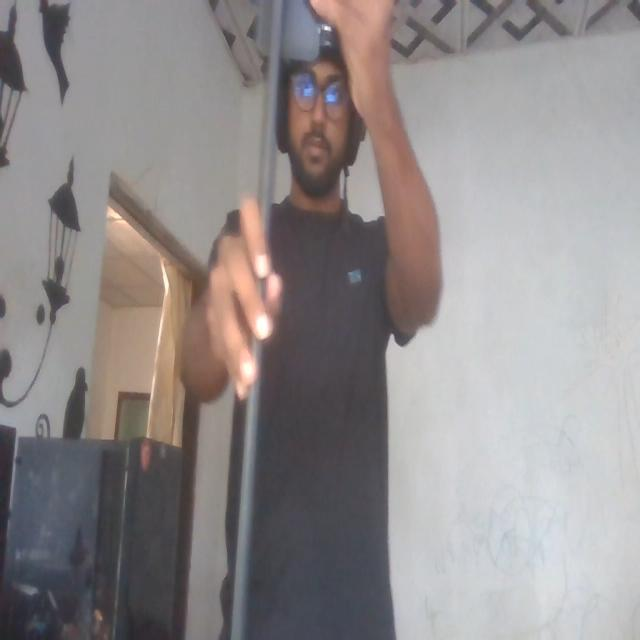Helmet_Wearer: (273, 0, 375, 223)
Person: (215, 0, 437, 640)
